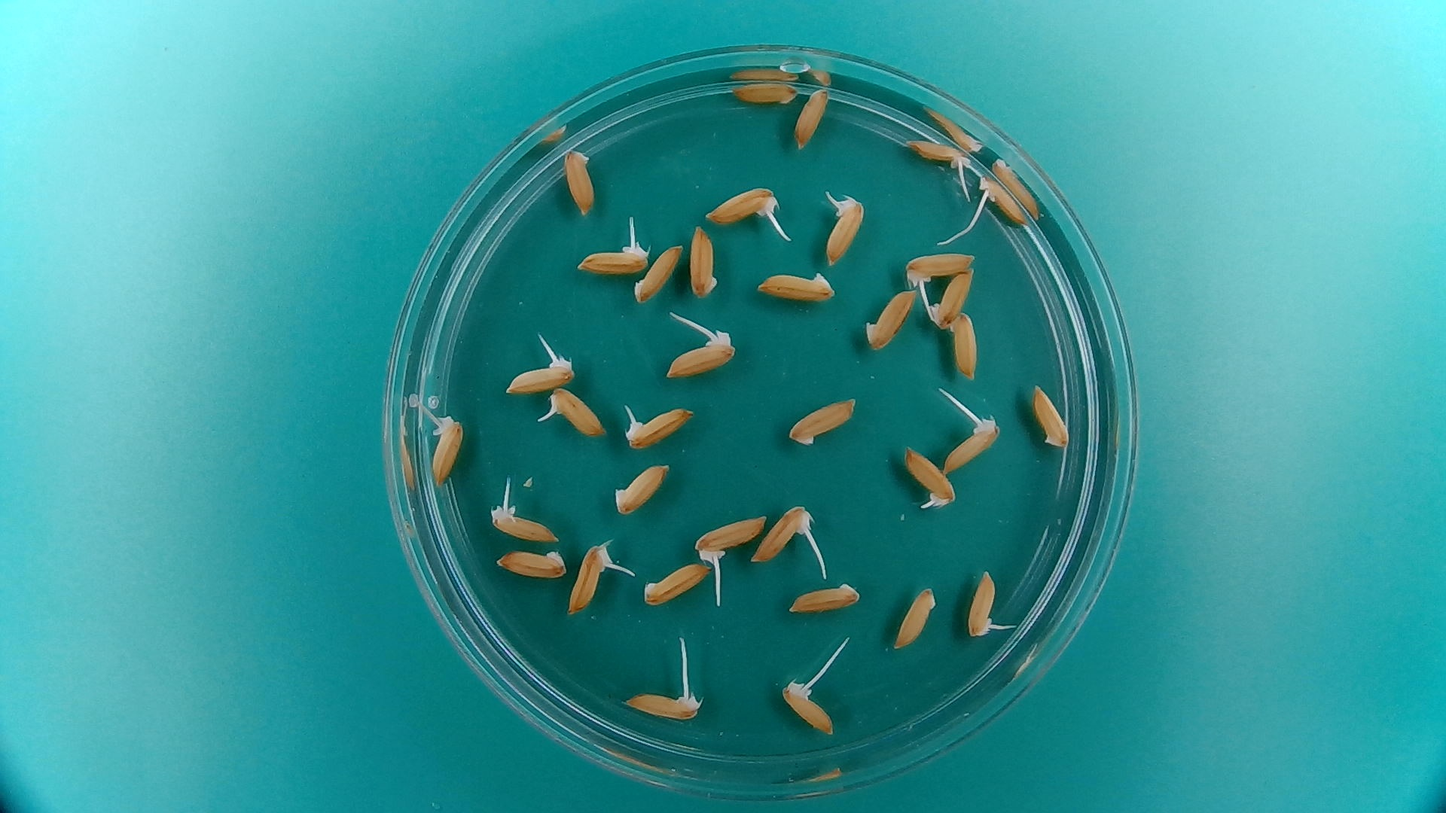no: (784, 391, 862, 449), (863, 285, 920, 354), (632, 238, 687, 305), (639, 560, 714, 607), (611, 460, 672, 517), (752, 266, 839, 305), (924, 266, 977, 328), (687, 217, 723, 304), (892, 584, 939, 650), (1030, 379, 1073, 451), (784, 578, 863, 617), (560, 141, 597, 218), (491, 547, 569, 581), (794, 86, 830, 155), (949, 307, 981, 383), (728, 78, 801, 107)
yes: (535, 385, 609, 440), (749, 504, 813, 566), (901, 443, 958, 512), (694, 509, 763, 561), (566, 537, 614, 611), (941, 411, 996, 475), (705, 182, 779, 229), (667, 333, 741, 380), (974, 171, 1033, 226), (620, 408, 697, 450), (824, 197, 868, 269), (780, 679, 834, 737), (617, 688, 706, 723), (487, 500, 555, 544), (431, 408, 467, 486), (901, 250, 979, 285), (502, 356, 571, 395), (903, 135, 972, 172), (575, 244, 652, 276), (966, 566, 999, 640)
